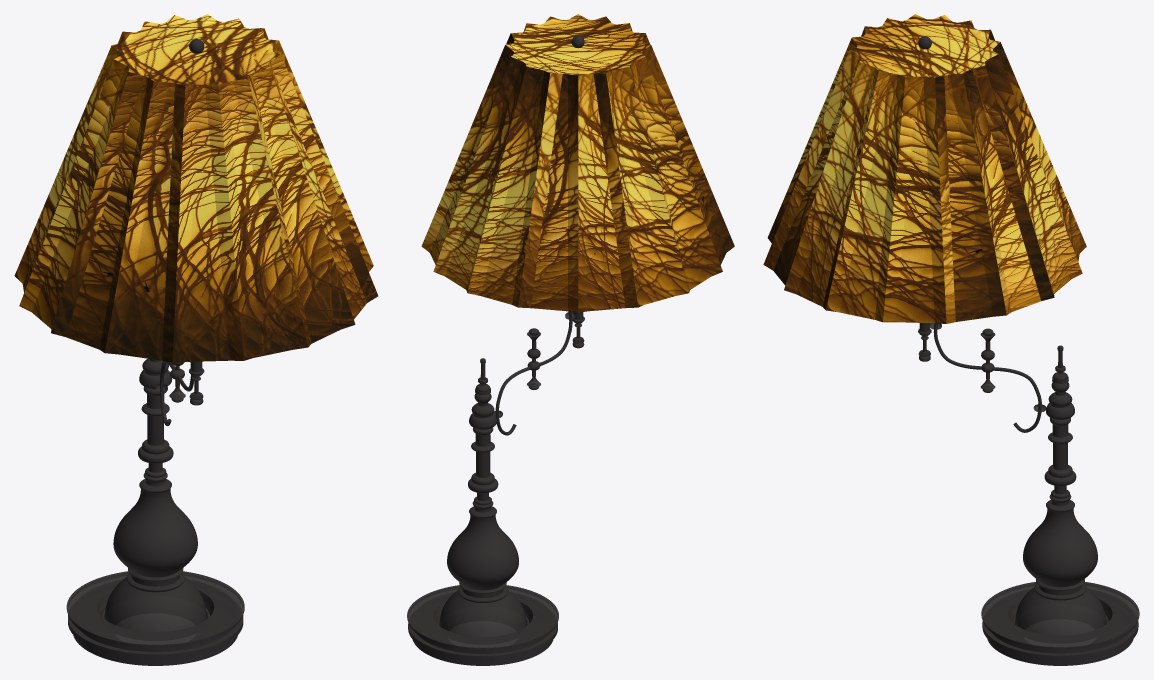
3 views of the same model, side by side, from view 1: azimuth 30°, elevation 25°; view 2: azimuth 150°, elevation 25°; view 3: azimuth 270°, elevation 25° (orthographic). The views are drawn at different scales.
Visible parts, largest first — view 1: Geode; view 2: Geode; view 3: Geode.
Part boxes in pixels (x1,y1,x2,y2): Geode: [14, 14, 378, 665]; Geode: [407, 14, 734, 665]; Geode: [763, 14, 1139, 665].
Bounding box in the file's own units: 56.85 × 113 × 66.1.
Materials: 3 (1 with a texture image).
